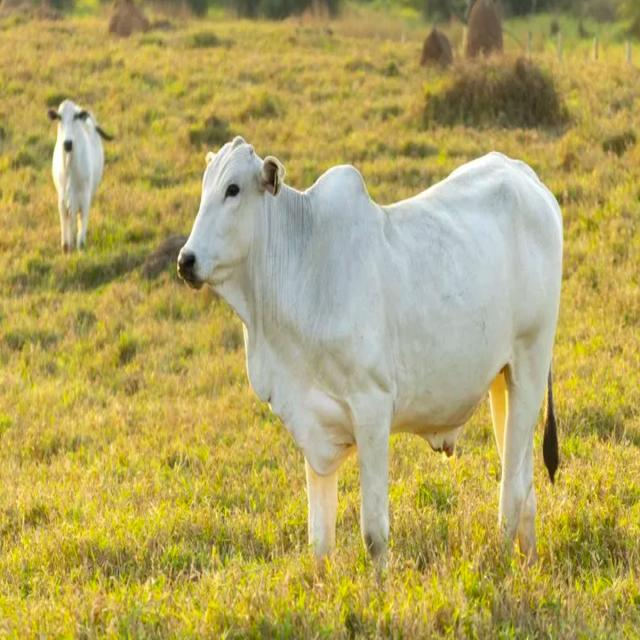animal: (158, 106, 596, 574)
